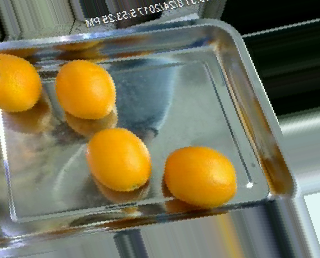Orange: (165, 145, 237, 208), (85, 126, 150, 192), (55, 58, 116, 119)
